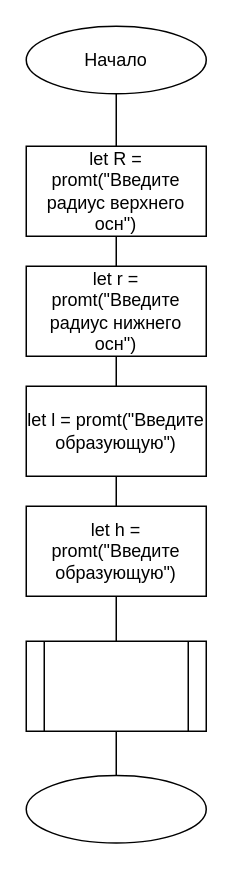
This 233x870 diagram has some shape labels left out. The box of each missing label's shape, as (x1, y1, x2, y2) in pixels:
isNumeric(R,r,l,h): (25, 640, 206, 731)
Конец: (25, 774, 206, 843)
